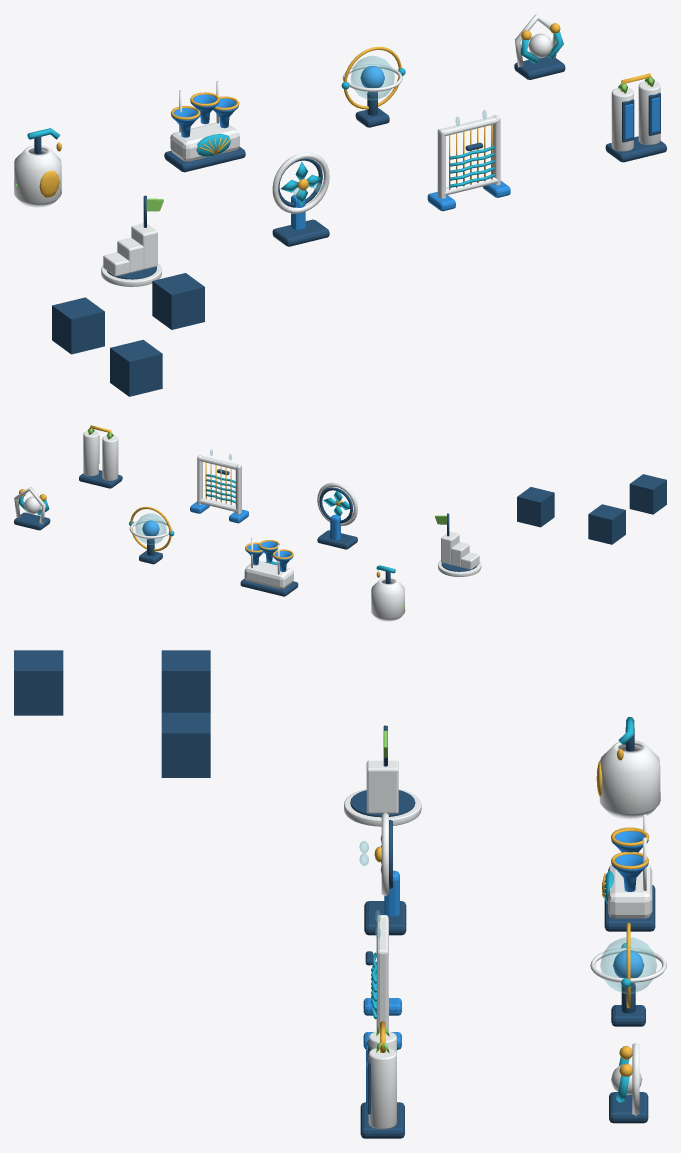
Rendered from catalog-006.glb.
3 views of the same model, one above another, from view 1: azimuth 30°, elevation 25°; view 2: azimuth 150°, elevation 25°; view 3: azimuth 270°, elevation 25° (orthographic). The views are drawn at different scales.
Visible parts, largest first — view 1: catalog_006__calibration_origin, catalog_006__calibration_front, catalog_006__calibration_right, nectar_pump__Fixed_pearl_05, monsoon_loom__Fixed_pearl_05, moss_capacitor__Fixed_pearl_05, ocean_orchestra__Fixed_pearl_11, ozone_orb__OzoneShell_glass_03, mist_fan__Fixed_dark_02, moss_capacitor__Fixed_dark_02, mist_fan__Fixed_pearl_05, monsoon_loom__LoomWeave_teal_06 (+10 smaller); view 2: moss_capacitor__Fixed_pearl_05, nectar_pump__Fixed_pearl_05, catalog_006__calibration_front, catalog_006__calibration_origin, catalog_006__calibration_right, monsoon_loom__Fixed_pearl_05, ocean_orchestra__Fixed_pearl_11, mist_fan__Fixed_dark_02, ozone_orb__OzoneShell_glass_03, monsoon_loom__LoomThread_gold_04, ocean_orchestra__Fixed_dark_04, mist_fan__Fixed_pearl_05 (+9 smaller); view 3: nectar_pump__Fixed_pearl_05, catalog_006__calibration_front, catalog_006__calibration_right, catalog_006__calibration_origin, moss_capacitor__Fixed_pearl_05, ozone_orb__OzoneShell_glass_03, ocean_orchestra__Fixed_pearl_11, milestone__Step_pearl_07, monsoon_loom__Fixed_pearl_05, mist_fan__Fixed_dark_02, moss_capacitor__Fixed_dark_02, pearl_diver__Fixed_dark_01 (+5 smaller).
Part boxes in pixels (x1,y1,x2,y2): catalog_006__calibration_origin: (52, 297, 104, 354); catalog_006__calibration_front: (110, 339, 162, 396); catalog_006__calibration_right: (152, 273, 204, 329); nectar_pump__Fixed_pearl_05: (14, 145, 61, 207); monsoon_loom__Fixed_pearl_05: (437, 115, 500, 198); moss_capacitor__Fixed_pearl_05: (611, 81, 660, 151); ocean_orchestra__Fixed_pearl_11: (170, 122, 239, 161); ozone_orb__OzoneShell_glass_03: (351, 56, 394, 99); mist_fan__Fixed_dark_02: (272, 158, 329, 246); moss_capacitor__Fixed_dark_02: (605, 93, 666, 162); mist_fan__Fixed_pearl_05: (272, 152, 329, 213); monsoon_loom__LoomWeave_teal_06: (449, 146, 494, 187); moss_capacitor__Fixed_pearl_05: (83, 431, 118, 480); nectar_pump__Fixed_pearl_05: (371, 577, 405, 621); catalog_006__calibration_front: (629, 474, 666, 514); catalog_006__calibration_origin: (588, 504, 625, 544); catalog_006__calibration_right: (517, 487, 554, 527); monsoon_loom__Fixed_pearl_05: (197, 455, 241, 514); ocean_orchestra__Fixed_pearl_11: (244, 561, 293, 588); mist_fan__Fixed_dark_02: (317, 487, 357, 549); ozone_orb__OzoneShell_glass_03: (135, 513, 166, 544); monsoon_loom__LoomThread_gold_04: (205, 462, 235, 505); ocean_orchestra__Fixed_dark_04: (240, 578, 298, 596); mist_fan__Fixed_pearl_05: (317, 482, 357, 526); nectar_pump__Fixed_pearl_05: (599, 740, 660, 819); catalog_006__calibration_front: (14, 650, 63, 715); catalog_006__calibration_right: (161, 712, 210, 777); catalog_006__calibration_origin: (161, 650, 210, 712); moss_capacitor__Fixed_pearl_05: (368, 1031, 396, 1129); ozone_orb__OzoneShell_glass_03: (600, 937, 656, 993); ocean_orchestra__Fixed_pearl_11: (608, 864, 652, 918); milestone__Step_pearl_07: (366, 760, 398, 813); monsoon_loom__Fixed_pearl_05: (376, 915, 388, 1031); mist_fan__Fixed_dark_02: (364, 819, 406, 935); moss_capacitor__Fixed_dark_02: (360, 1040, 404, 1138); pearl_diver__Fixed_dark_01: (609, 1092, 648, 1123).
Bounding box in the file's own units: 5.66 × 0.6986 × 3.72.
